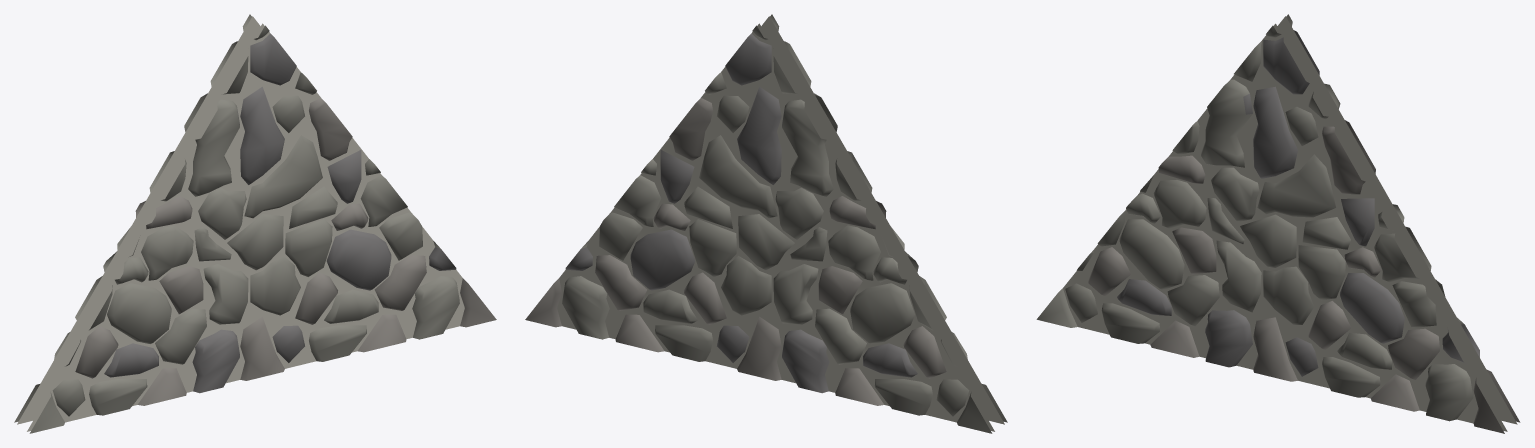
Rendered from rpgpp_ag_roof_end_01_6x5_wall_d.fbx.
The picture shows the model from 3 angles, left to right: view 1: azimuth 30°, elevation 25°; view 2: azimuth 150°, elevation 25°; view 3: azimuth 330°, elevation 25°; orthographic projection.
Parts seen in each view (by area): view 1: rpgpp_ag_roof_end_01_6x5_wall_d; view 2: rpgpp_ag_roof_end_01_6x5_wall_d; view 3: rpgpp_ag_roof_end_01_6x5_wall_d.
Part boxes in pixels (left/top/right/bottom): rpgpp_ag_roof_end_01_6x5_wall_d: left=14, top=14, right=496, bottom=433; rpgpp_ag_roof_end_01_6x5_wall_d: left=525, top=14, right=1007, bottom=433; rpgpp_ag_roof_end_01_6x5_wall_d: left=1036, top=14, right=1520, bottom=433.
Bounding box in the file's own units: 6.38 × 4.58 × 0.404.
